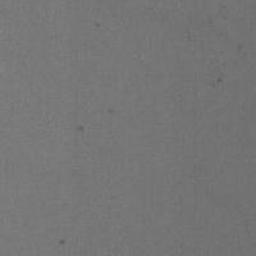Inclusion: (236, 42, 246, 51), (77, 124, 86, 132), (59, 238, 67, 246), (92, 22, 101, 28), (215, 78, 223, 84)
